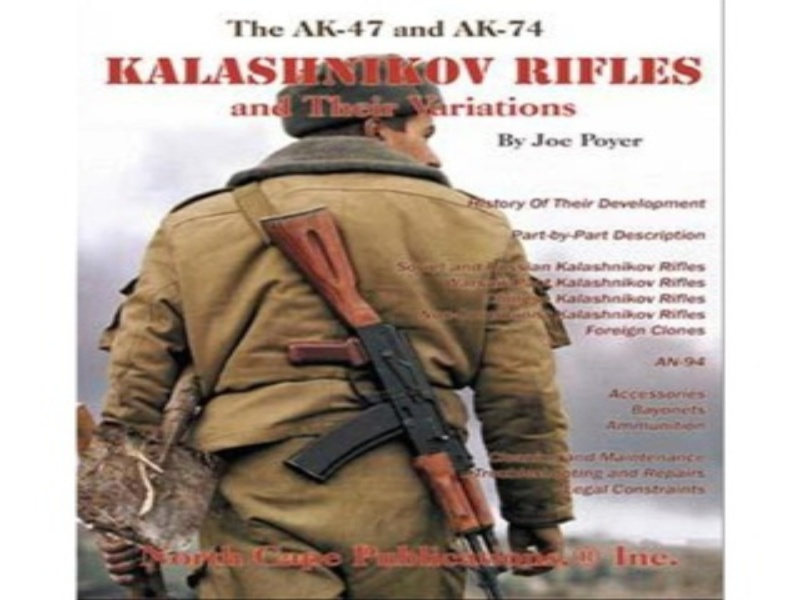person: (103, 55, 576, 600)
weapon: (261, 207, 510, 600)
